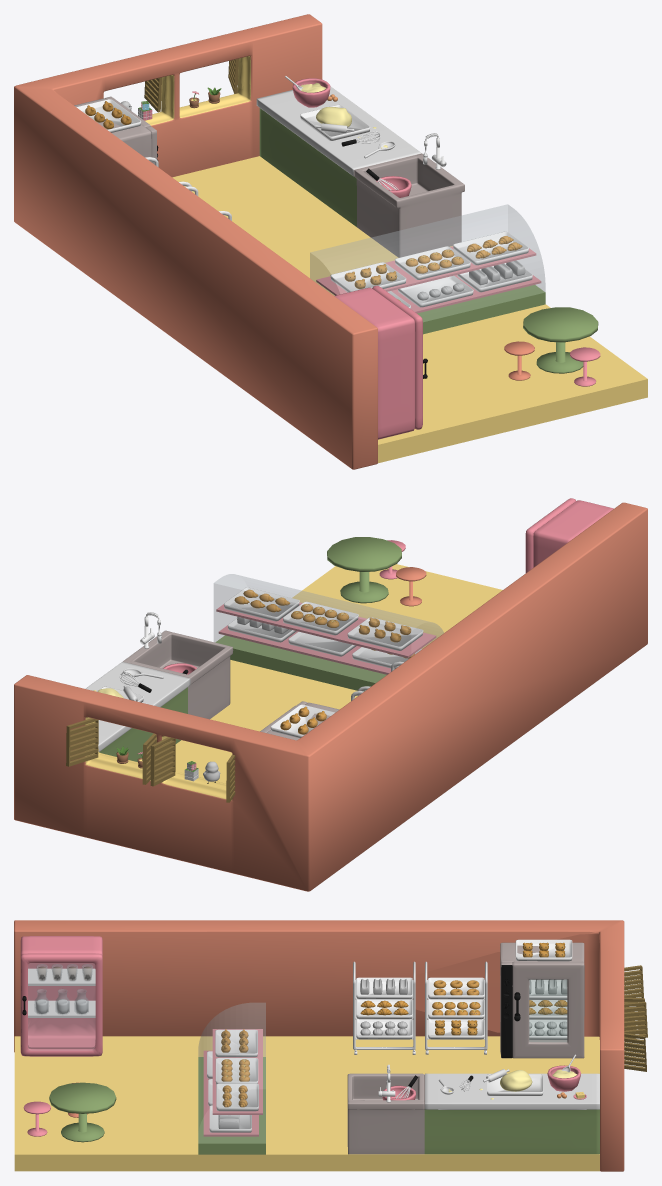
The model's file is Bakery Kitchen.fbx.
3 views of the same model, one above another, from view 1: azimuth 30°, elevation 25°; view 2: azimuth 150°, elevation 25°; view 3: azimuth 270°, elevation 25° (orthographic). The views are drawn at different scales.
Visible parts, largest first — view 1: wall, floor, Display glass, benchtop, fridge, table, wall.001, oven, display shelf.001, Cube.009, trays.005, Cube.011 (+8 smaller); view 2: wall, Display glass, floor, benchtop, Window door, table, fridge, display shelf.001, wall.001, display shelf, trays.005, Cube.012 (+6 smaller); view 3: wall, floor, benchtop, fridge, Display glass, oven, wall.001, table, Window door, fridge shelf, display shelf.001, trays.005 (+24 smaller).
Boxes of the visible parts, x1,y1,x2,y2 form: wall: [14, 14, 377, 469]; floor: [172, 156, 647, 463]; Display glass: [310, 204, 545, 334]; benchtop: [256, 86, 464, 257]; fridge: [334, 285, 422, 439]; table: [523, 307, 598, 373]; wall.001: [52, 56, 251, 125]; oven: [74, 96, 157, 164]; display shelf.001: [316, 246, 536, 295]; Cube.009: [398, 275, 473, 307]; trays.005: [453, 231, 528, 265]; Cube.011: [395, 246, 470, 279]; wall: [14, 502, 647, 891]; Display glass: [214, 574, 443, 691]; floor: [175, 564, 502, 783]; benchtop: [85, 630, 233, 761]; Window door: [66, 718, 235, 802]; table: [327, 537, 401, 603]; fridge: [525, 498, 613, 572]; display shelf.001: [216, 602, 436, 657]; wall.001: [84, 716, 302, 800]; display shelf: [218, 625, 390, 674]; trays.005: [224, 587, 299, 621]; Cube.012: [347, 617, 423, 650]; wall: [14, 920, 624, 1171]; floor: [14, 1036, 599, 1171]; benchtop: [347, 1073, 599, 1154]; fridge: [20, 936, 102, 1056]; Display glass: [198, 1003, 265, 1154]; oven: [500, 942, 584, 1058]; wall.001: [408, 930, 600, 1039]; table: [49, 1082, 116, 1142]; Window door: [624, 965, 647, 1071]; fridge shelf: [28, 968, 95, 985]; display shelf.001: [212, 1029, 262, 1114]; trays.005: [216, 1083, 258, 1111].
Bounding box in the file's own units: 846 × 370 × 1732.
